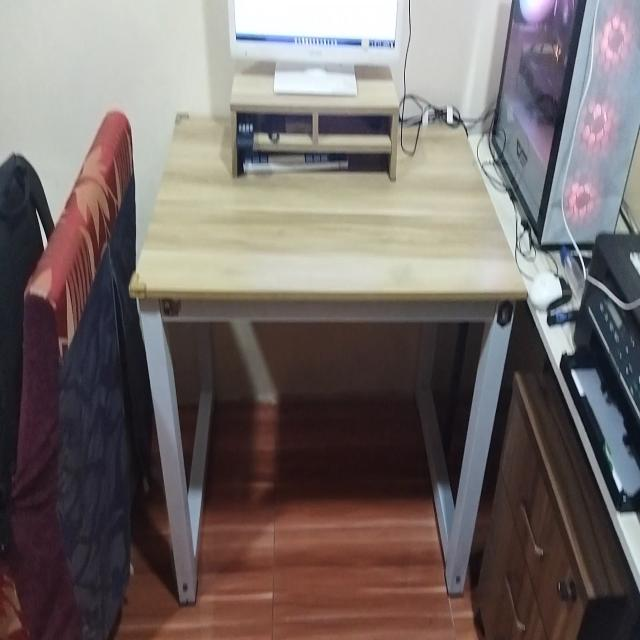table: (134, 113, 512, 611)
